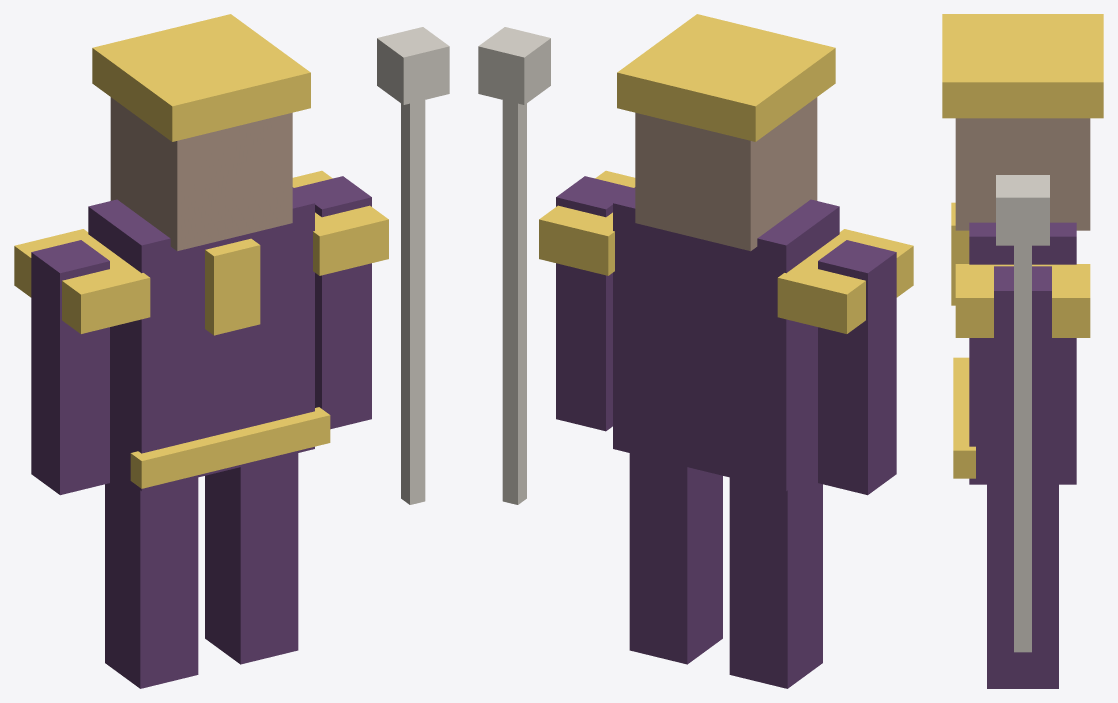
Rendered from 14_thorne_brightlock_sentinel_under_drone.glb.
The picture shows the model from 3 angles, left to right: view 1: azimuth 30°, elevation 25°; view 2: azimuth 150°, elevation 25°; view 3: azimuth 270°, elevation 25°; orthographic projection.
Parts seen in each view (by area): view 1: Thorne Brightlock, Sentinel under Drone; view 2: Thorne Brightlock, Sentinel under Drone; view 3: Thorne Brightlock, Sentinel under Drone.
Part boxes in pixels (box(x1,y1,x2,y2)): Thorne Brightlock, Sentinel under Drone: box(14, 14, 449, 688); Thorne Brightlock, Sentinel under Drone: box(478, 14, 913, 688); Thorne Brightlock, Sentinel under Drone: box(942, 14, 1103, 688).
Size of the model in its own units: 1.08 by 1.58 by 0.3832.
